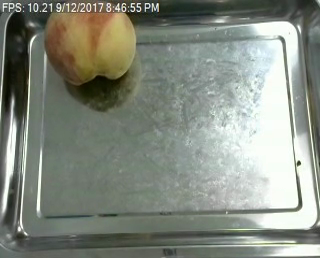Peach: (44, 0, 136, 85)
